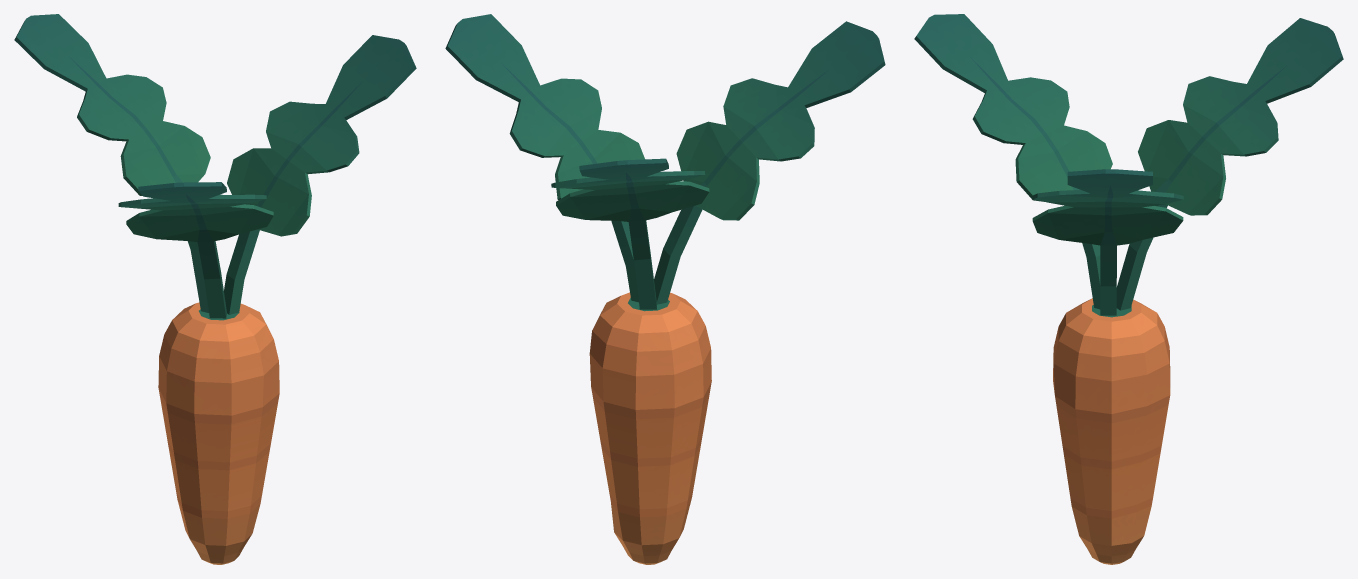
Rendered from SweetPotato_Orange.fbx.
The picture shows the model from 3 angles, left to right: view 1: azimuth 30°, elevation 25°; view 2: azimuth 150°, elevation 25°; view 3: azimuth 270°, elevation 25°; orthographic projection. The views are drawn at different scales.
Parts seen in each view (by area): view 1: Carrot_Big; view 2: Carrot_Big; view 3: Carrot_Big.
Part boxes in pixels (x1,y1,x2,y2): Carrot_Big: [14, 14, 416, 564]; Carrot_Big: [445, 14, 885, 564]; Carrot_Big: [914, 14, 1343, 564].
Size of the model in its own units: 137 by 188 by 148.
